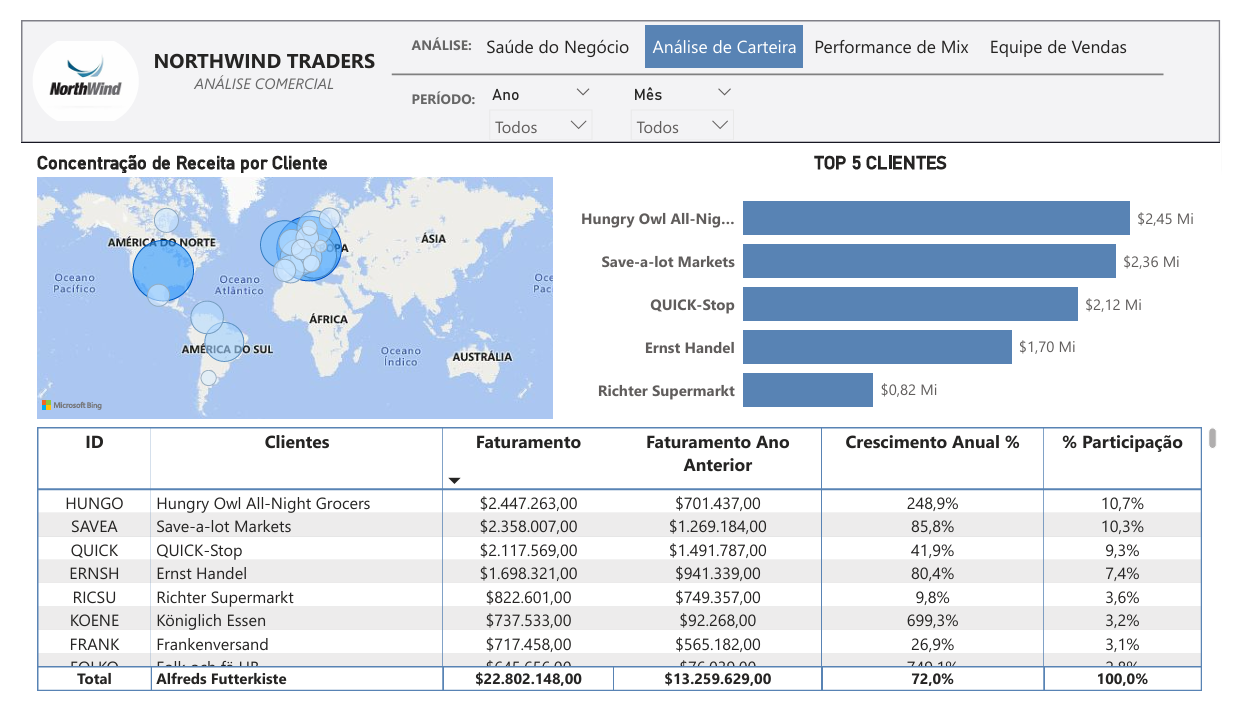

This screenshot's page, from the dashboard's own definition file:
{"tool":"powerbi","page":{"name":"Análise de Carteira","canvas":[1280,720],"ordinal":1},"visuals":[{"type":"shape","box":[0,0,1278.3,130],"z":0},{"type":"shape","box":[0,0,1280,130],"z":1000},{"type":"textbox","box":[123.3,23.3,271.7,83.3],"z":2000},{"type":"shape","box":[395,0,823.3,115],"z":3000},{"type":"textbox","box":[411.3,11.3,84.7,38.7],"z":4000},{"type":"image","box":[11.7,16.7,113.3,95],"z":5000},{"type":"pageNavigator","box":[488.3,5,705,45],"z":6000},{"type":"slicer","fields":{"Values":["Dim_Calendario.Ano"]},"box":[488.9,64.4,130,62.2],"z":7000},{"type":"textbox","box":[411.1,67.8,84.4,38.9],"z":8000},{"type":"slicer","fields":{"Values":["Dim_Calendario.Mês Nome"]},"box":[640,64.4,130,62.2],"z":9000},{"type":"clusteredBarChart","title":"TOP 5 CLIENTES","fields":{"Category":["Dim_Clientes.companyName"],"Y":["_Medidas.Receita Total"]},"box":[553.3,140,726.7,310],"z":10000},{"type":"tableEx","fields":{"Values":["Dim_Clientes.customerID","Min(Dim_Clientes.companyName)","_Medidas.Receita Total","_Medidas.Receita Ano Anterior","_Medidas.Crescimento Anual %","_Medidas.% Participação"]},"box":[11.4,428.6,1268.6,291.4],"z":11000},{"type":"map","title":"Concentração de Receita por Cliente","fields":{"Category":["Dim_Clientes.country"],"Size":["_Medidas.Receita Total"]},"box":[11.7,140,560,290],"z":12000}]}

Visuals, with their boxes in screenshot pixels (x1, y1, x2, y2), scaled from the page's 1280x720 canvas onto the 1242x717 screenshot:
shape: (0,0,1240,129)
shape: (0,0,1241,129)
textbox: (120,23,383,106)
shape: (383,0,1182,115)
textbox: (399,11,481,50)
image: (11,17,121,111)
pageNavigator: (474,5,1158,50)
slicer - Dim_Calendario.Ano: (474,64,601,126)
textbox: (399,68,481,106)
slicer - Dim_Calendario.Mês Nome: (621,64,747,126)
"TOP 5 CLIENTES" clusteredBarChart: (537,139,1241,448)
tableEx - Dim_Clientes.customerID x Min(Dim_Clientes.companyName): (11,427,1241,716)
"Concentração de Receita por Cliente" map: (11,139,555,428)
